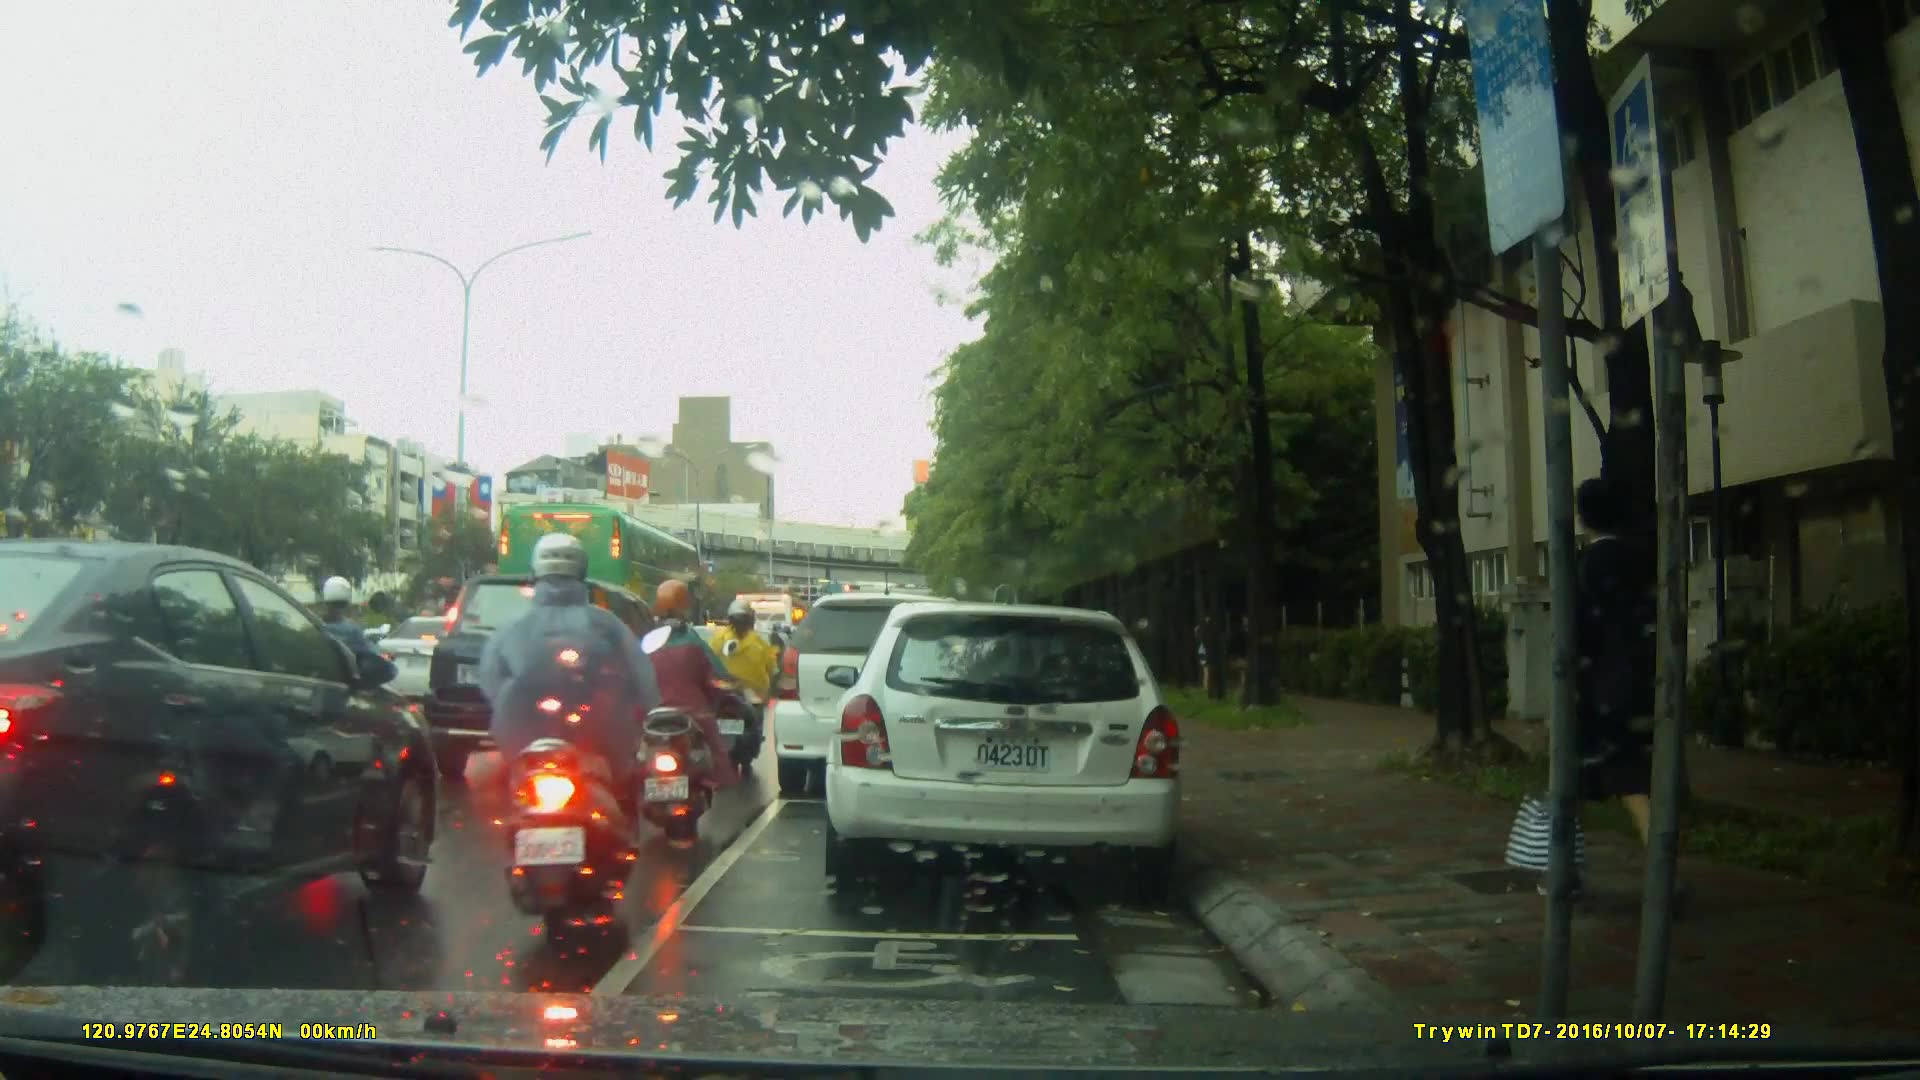pedestrian: (1504, 465, 1681, 912)
rider: (448, 529, 655, 939), (623, 581, 717, 844), (298, 578, 404, 782), (705, 597, 785, 770)
vehicle: (8, 535, 444, 987), (831, 592, 1196, 897), (426, 571, 678, 786), (770, 592, 999, 800), (493, 501, 705, 658)
